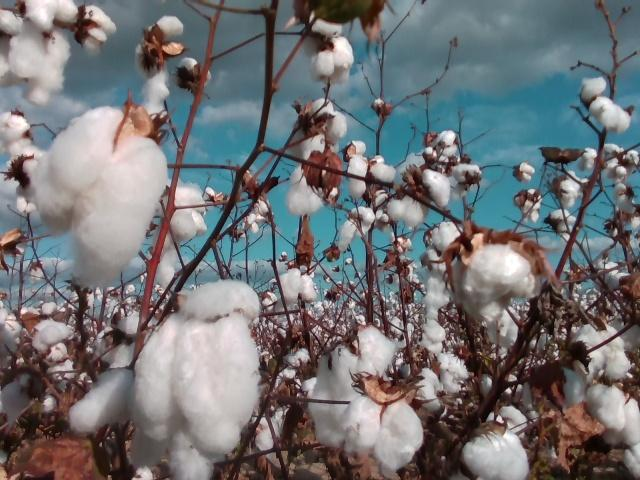cotton_ready: (132, 280, 261, 480), (36, 106, 168, 288), (308, 326, 397, 444), (0, 0, 78, 104), (397, 320, 468, 409), (339, 397, 424, 471), (135, 15, 185, 122), (256, 368, 315, 457), (588, 382, 640, 475), (466, 246, 535, 308), (70, 369, 138, 431), (422, 222, 464, 312), (384, 170, 451, 224), (461, 428, 530, 480), (292, 96, 347, 160), (570, 327, 631, 379), (0, 376, 36, 464), (93, 309, 141, 375), (581, 78, 630, 130), (160, 187, 208, 240), (288, 164, 332, 216), (476, 370, 534, 408), (467, 302, 518, 345), (309, 38, 355, 85), (349, 156, 395, 201), (276, 269, 318, 311), (299, 12, 344, 50), (489, 407, 541, 439), (338, 206, 374, 247), (153, 229, 178, 288), (83, 8, 116, 52), (0, 113, 31, 159), (605, 142, 640, 178), (10, 155, 37, 198), (36, 321, 70, 354), (448, 161, 484, 191), (0, 307, 21, 358), (551, 171, 579, 208), (566, 369, 591, 409), (428, 129, 460, 158)
